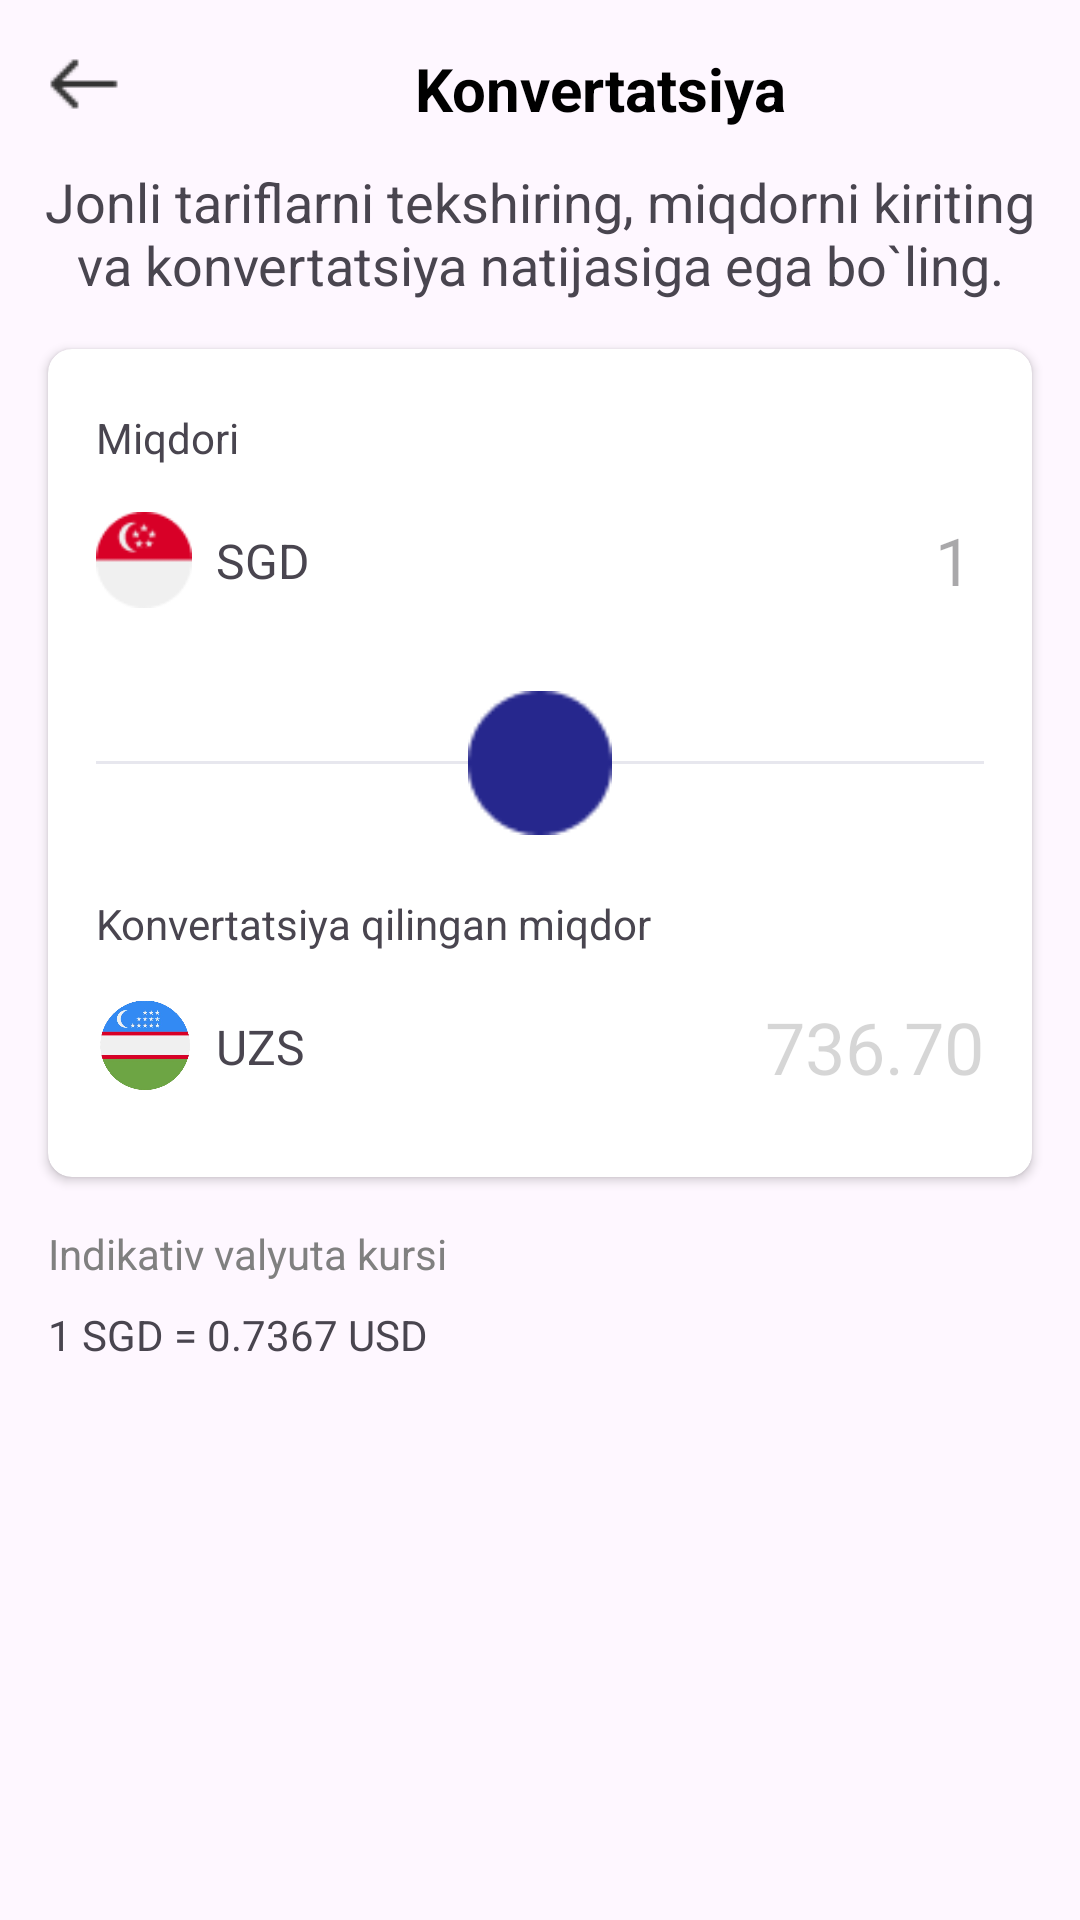

Point at icon controls on the screen. Image size 1080×1920, points as (x,y).
back: (84,84)
uzb: (145,1045)
